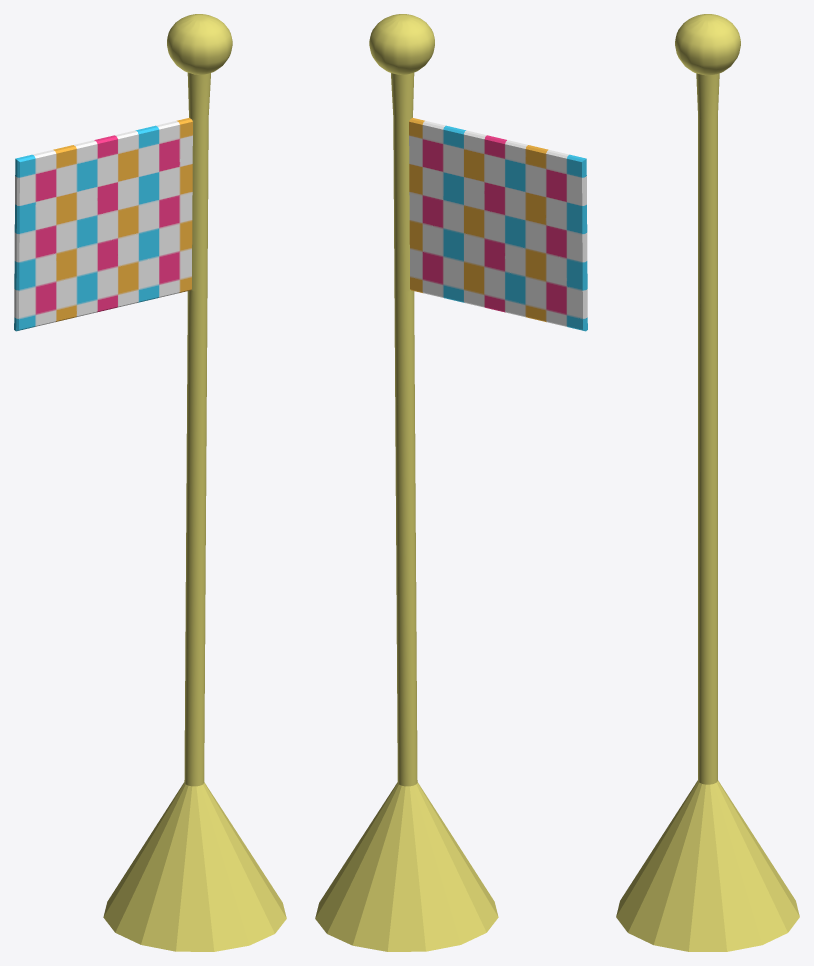
The model's file is flag.fbx.
The picture shows the model from 3 angles, left to right: view 1: azimuth 30°, elevation 25°; view 2: azimuth 150°, elevation 25°; view 3: azimuth 270°, elevation 25°; orthographic projection.
Parts seen in each view (by area): view 1: polySurface2; view 2: polySurface2; view 3: polySurface2.
Boxes of the visible parts, bbox=[...] form: polySurface2: bbox=[14, 14, 286, 951]; polySurface2: bbox=[315, 14, 587, 951]; polySurface2: bbox=[616, 14, 799, 951].
Bounding box in the file's own units: 66.03 × 219 × 40.64.
Materials: 2 (1 with a texture image).
